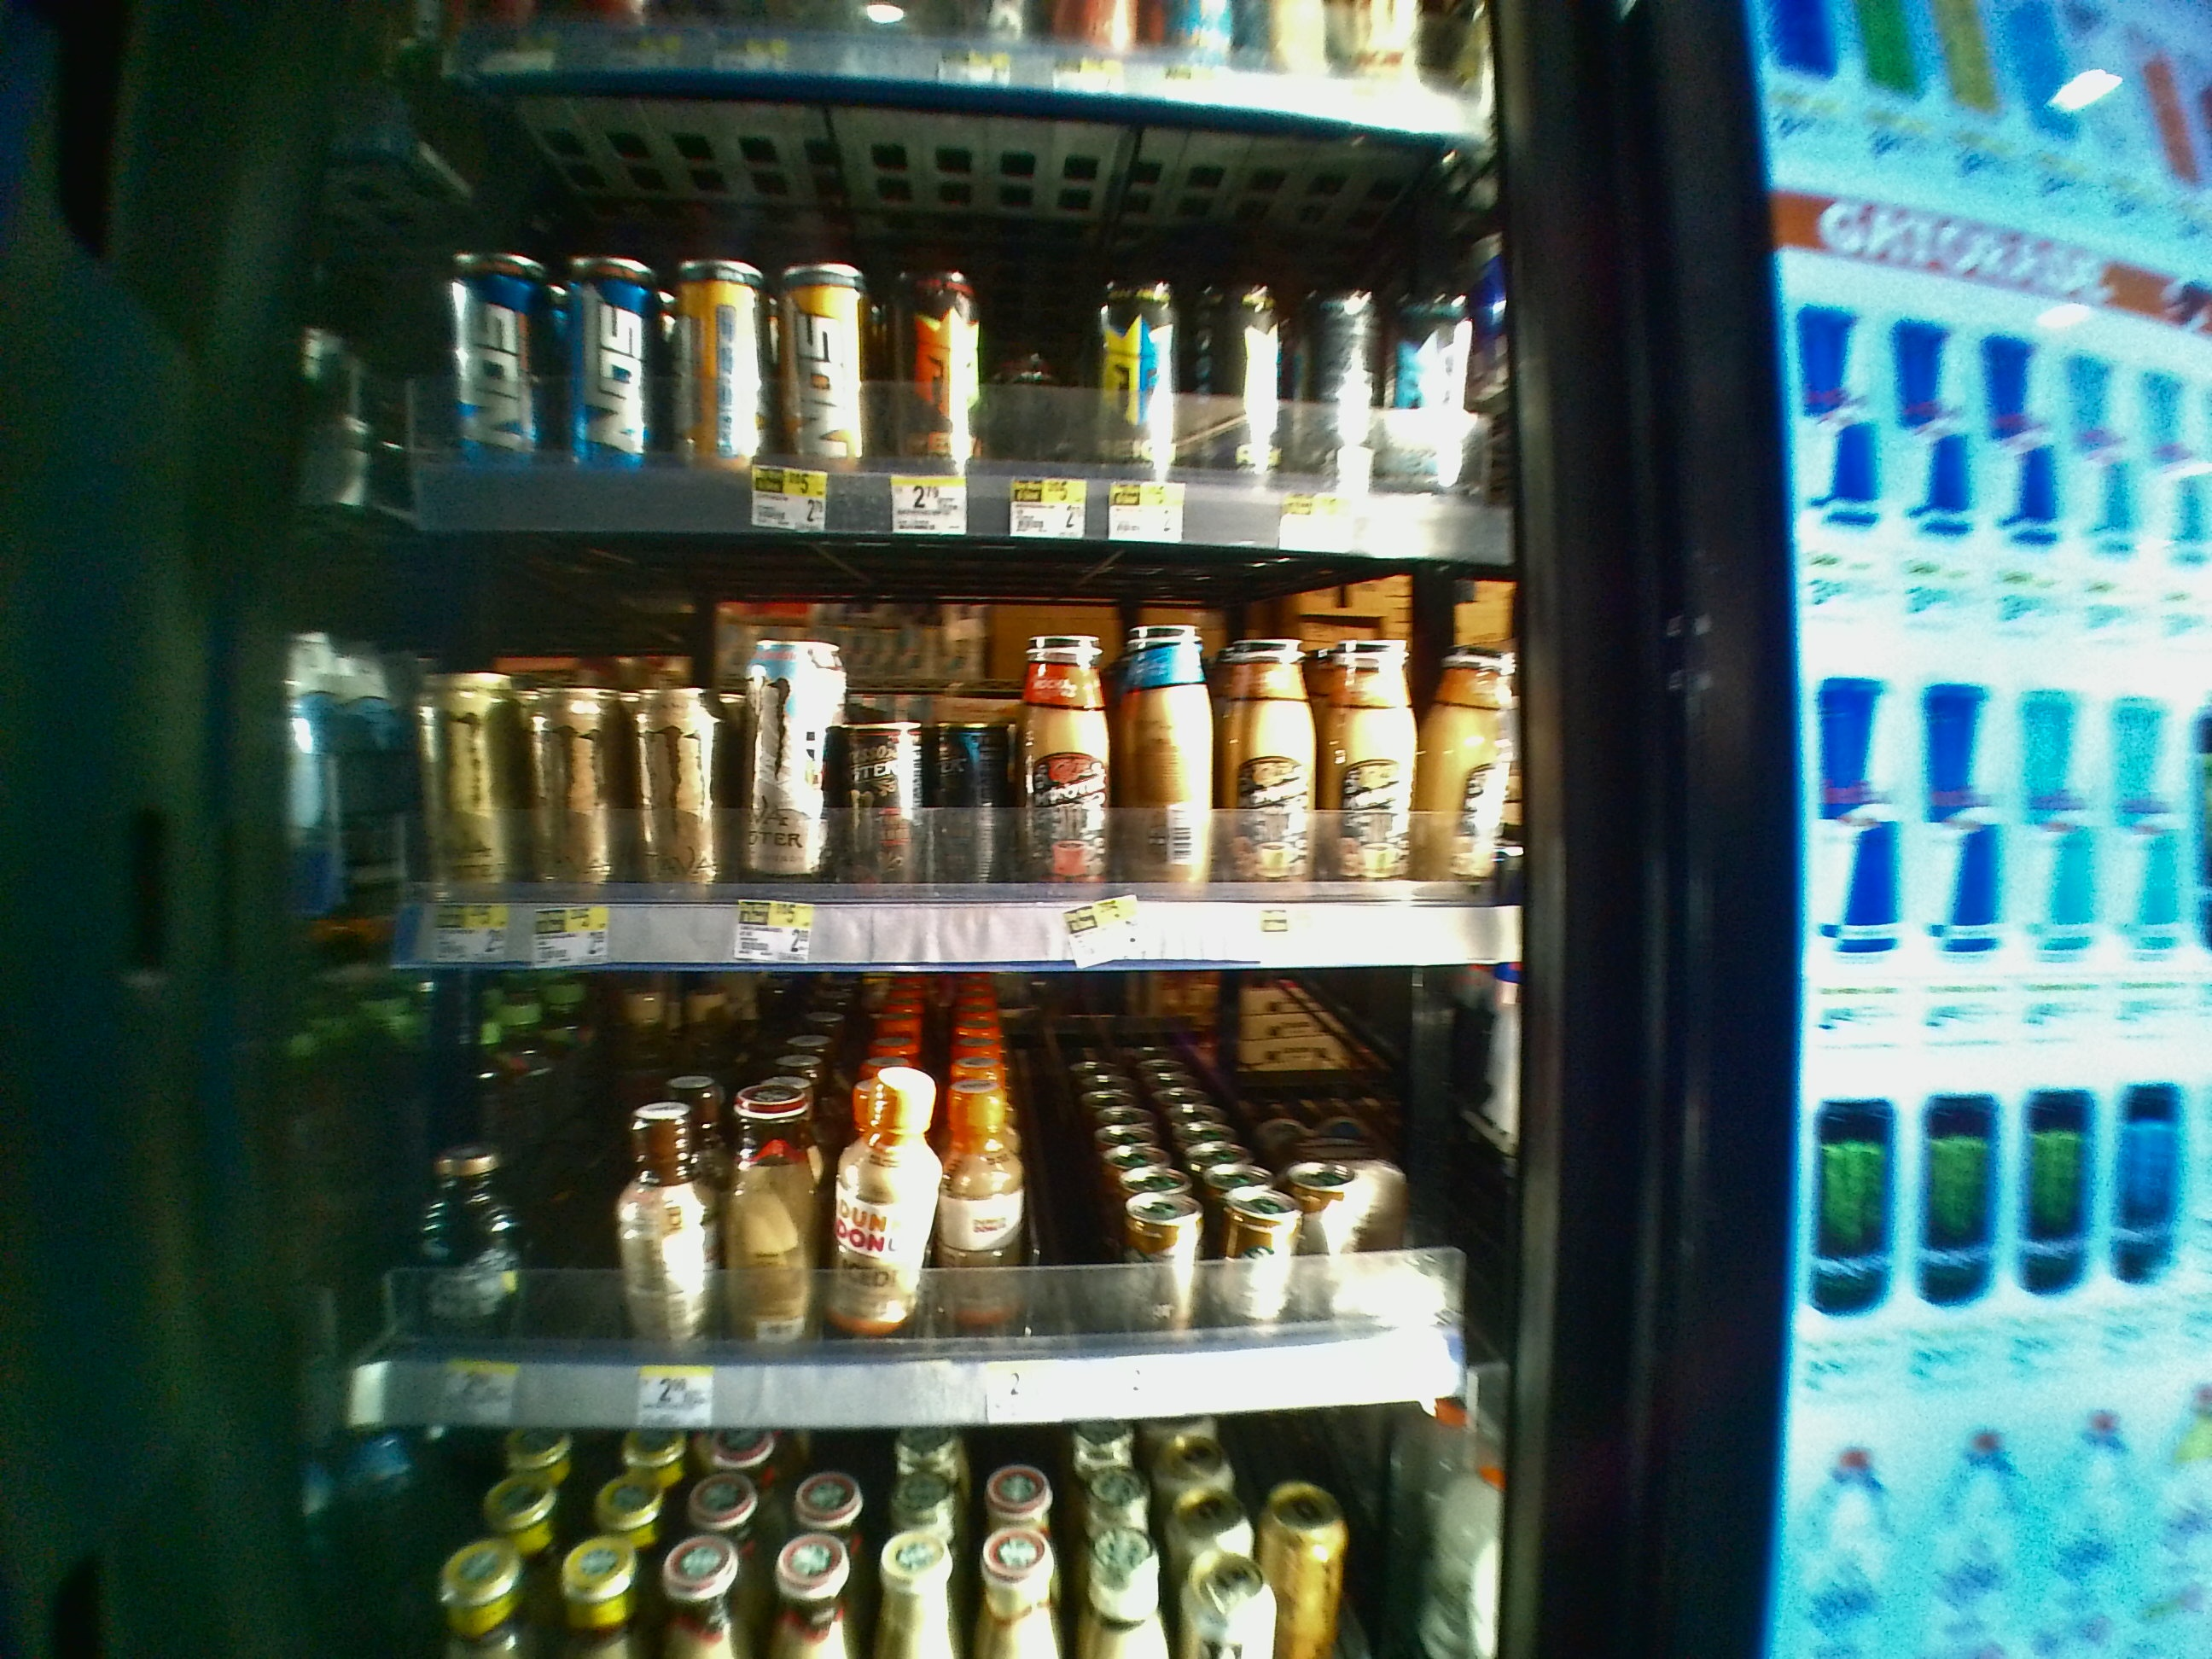shelf: (280, 972, 1524, 1422), (284, 535, 1524, 976)
